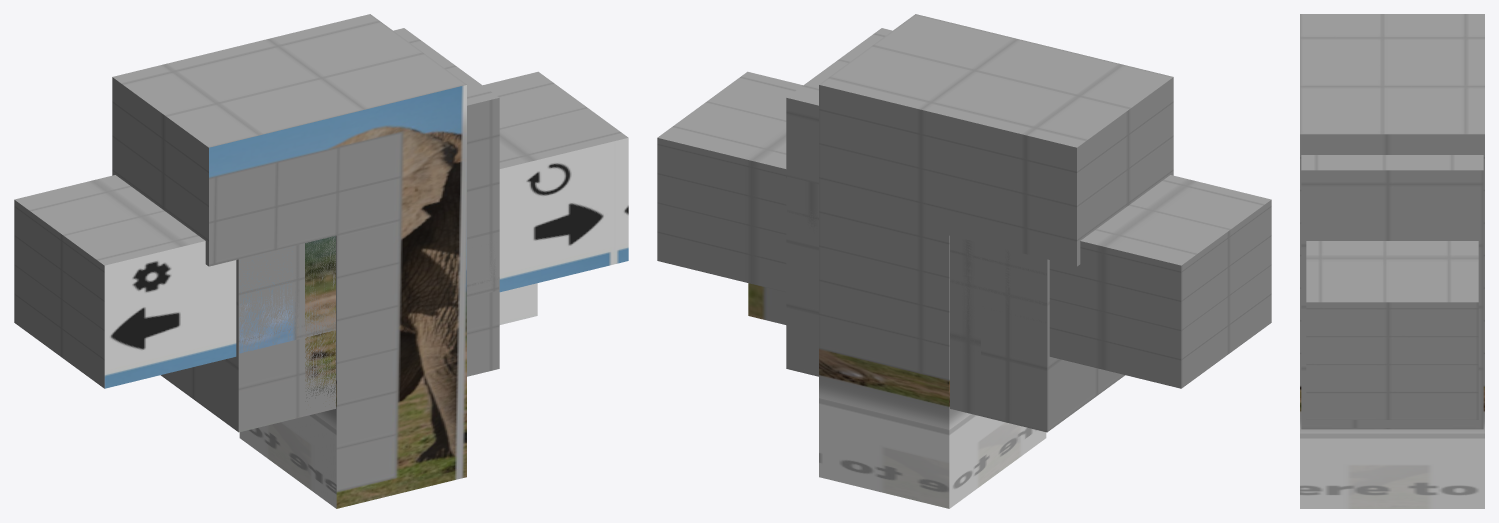
The model's file is puzzle7.fbx.
3 views of the same model, side by side, from view 1: azimuth 30°, elevation 25°; view 2: azimuth 150°, elevation 25°; view 3: azimuth 270°, elevation 25° (orthographic). The views are drawn at different scales.
Parts seen in each view (by area): view 1: Cube.002, Cube.008, Cube.005, Cube.004, Cube.006, Cube.003; view 2: Cube.002, Cube.008, Cube.005, Cube.006, Cube.004, Cube.003; view 3: Cube.002, Cube.008, Cube.005, Cube.003.
Part boxes in pixels (x1=…): Cube.002: x1=112, y1=14, x2=466, y2=508; Cube.008: x1=14, y1=71, x2=628, y2=388; Cube.005: x1=161, y1=28, x2=499, y2=432; Cube.004: x1=305, y1=235, x2=335, y2=402; Cube.006: x1=239, y1=234, x2=498, y2=353; Cube.003: x1=499, y1=283, x2=537, y2=324; Cube.002: x1=819, y1=14, x2=1173, y2=508; Cube.008: x1=657, y1=71, x2=1271, y2=388; Cube.005: x1=786, y1=28, x2=1124, y2=432; Cube.006: x1=787, y1=176, x2=1046, y2=330; Cube.004: x1=950, y1=238, x2=980, y2=416; Cube.003: x1=748, y1=283, x2=786, y2=324; Cube.002: x1=1300, y1=14, x2=1484, y2=508; Cube.008: x1=1306, y1=241, x2=1478, y2=419; Cube.005: x1=1301, y1=155, x2=1483, y2=429; Cube.003: x1=1332, y1=420, x2=1452, y2=427.
Size of the model in its own units: 635 by 454 by 203.
